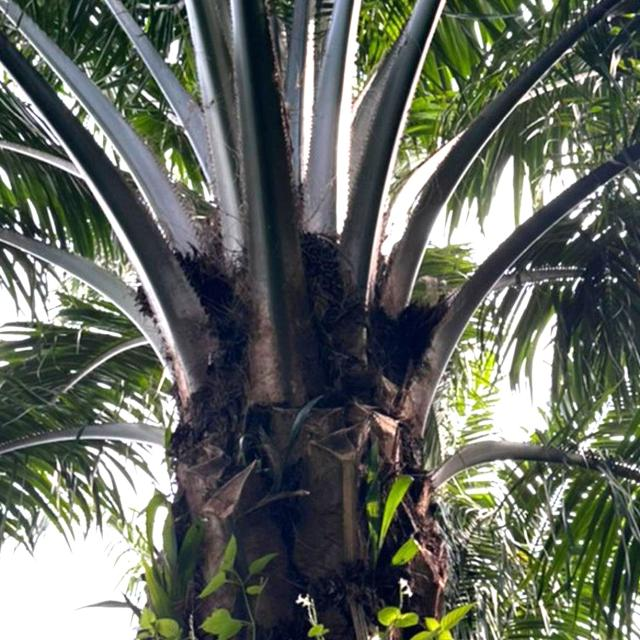unripe: (295, 223, 364, 328)
